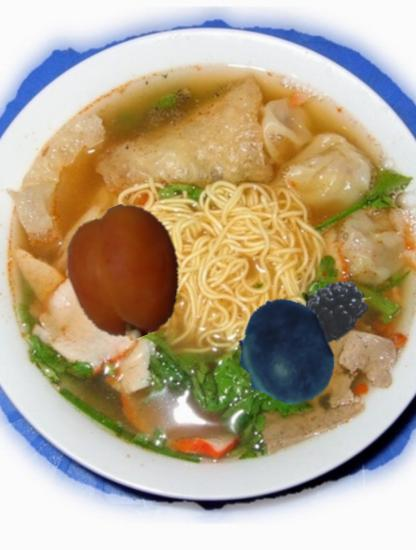Apricot: (60, 207, 192, 339)
Huckleberry: (230, 298, 340, 408)
Mulberry: (285, 264, 369, 348)
